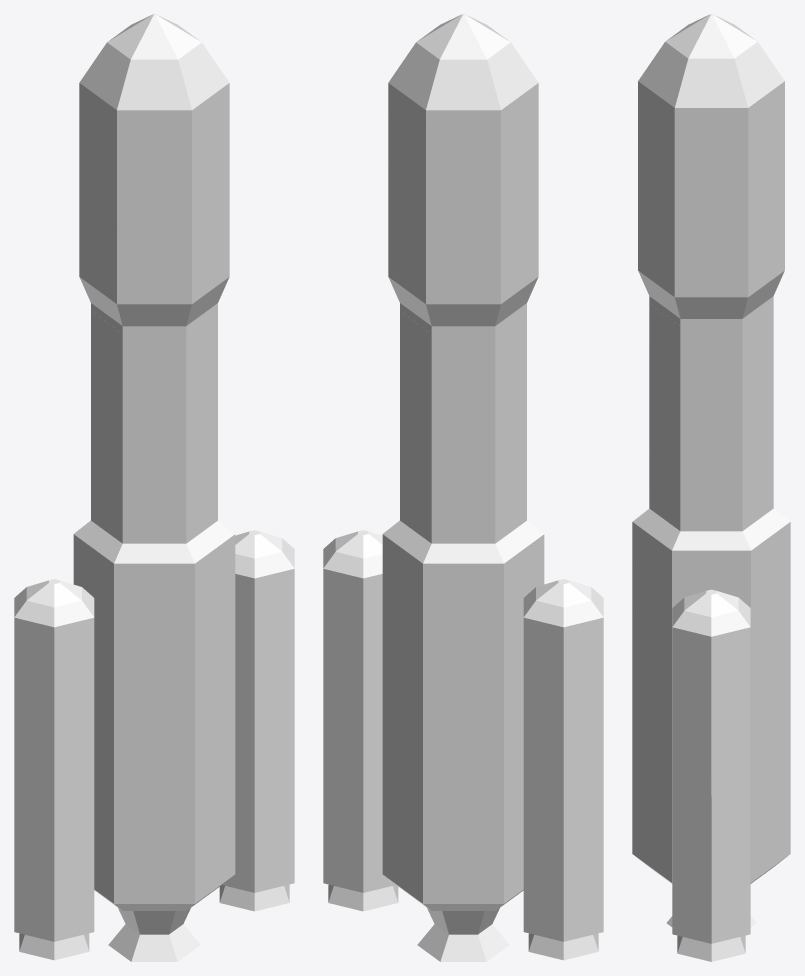
The model's file is Rocket.fbx.
The picture shows the model from 3 angles, left to right: view 1: azimuth 30°, elevation 25°; view 2: azimuth 150°, elevation 25°; view 3: azimuth 270°, elevation 25°; orthographic projection. The views are drawn at different scales.
Visible parts, largest first — view 1: Stage 1, LeftFairing, LeftBooster, Stage 2, RightBooster, RightFairing; view 2: Stage 1, RightFairing, LeftBooster, Stage 2, RightBooster, LeftFairing; view 3: Stage 1, RightBooster, Stage 2, LeftFairing, RightFairing.
Part boxes in pixels (x1,y1,x2,y2): Stage 1: [73, 520, 235, 961]; LeftFairing: [98, 14, 229, 326]; LeftBooster: [14, 579, 94, 960]; Stage 2: [91, 303, 217, 543]; RightBooster: [219, 530, 294, 911]; RightFairing: [79, 14, 188, 313]; Stage 1: [382, 520, 544, 961]; RightFairing: [388, 14, 519, 326]; LeftBooster: [523, 579, 603, 960]; Stage 2: [400, 303, 526, 543]; RightBooster: [323, 530, 398, 911]; LeftFairing: [429, 14, 538, 313]; Stage 1: [632, 508, 790, 926]; RightBooster: [672, 589, 750, 961]; Stage 2: [649, 296, 773, 531]; LeftFairing: [638, 14, 711, 318]; RightFairing: [711, 14, 784, 318].
Bounding box in the file's own units: 5600 × 17750 × 2800.
